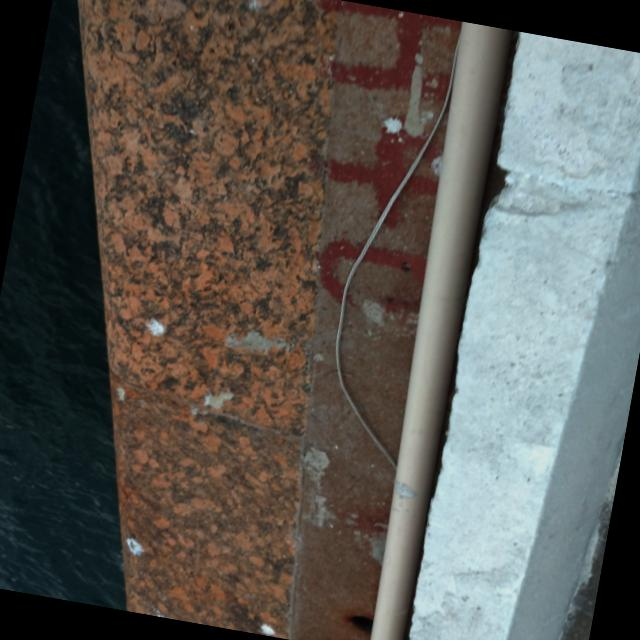gas: (346, 19, 521, 640)
